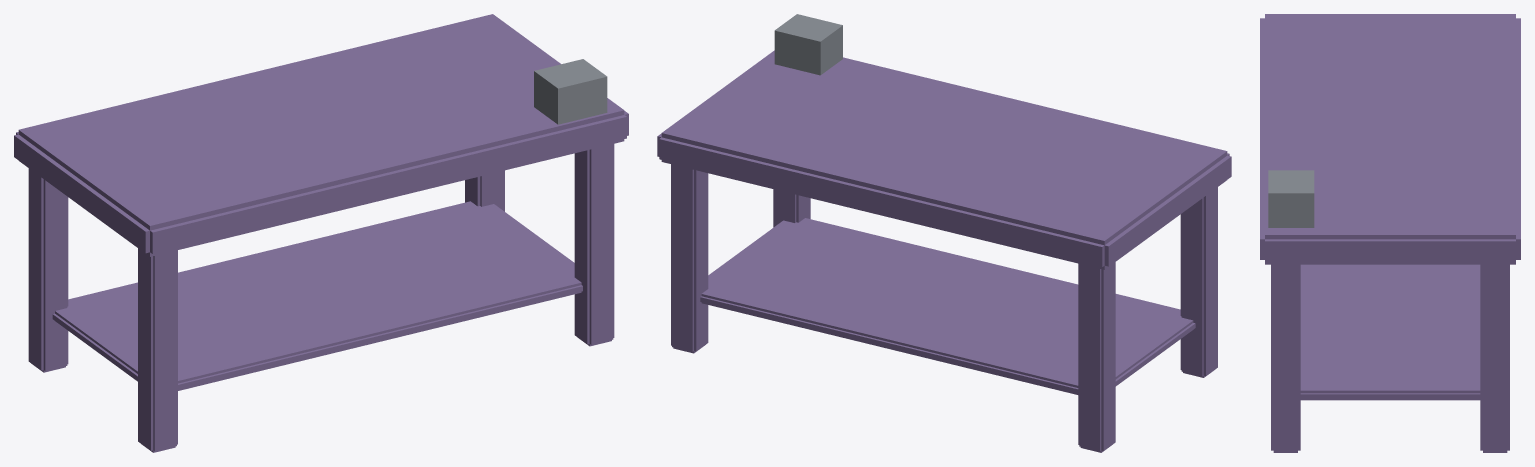
File: ebonwood_workbench_v0.glb
3 views of the same model, side by side, from view 1: azimuth 30°, elevation 25°; view 2: azimuth 150°, elevation 25°; view 3: azimuth 270°, elevation 25° (orthographic). The views are drawn at different scales.
Parts seen in each view (by area): view 1: ebonwood_workbench_v0; view 2: ebonwood_workbench_v0; view 3: ebonwood_workbench_v0.
Part boxes in pixels (x1,y1,x2,y2): ebonwood_workbench_v0: (14,14,628,452); ebonwood_workbench_v0: (657,14,1231,452); ebonwood_workbench_v0: (1260,14,1520,452).
Bounding box in the file's own units: 1.96 × 1.04 × 0.96.
